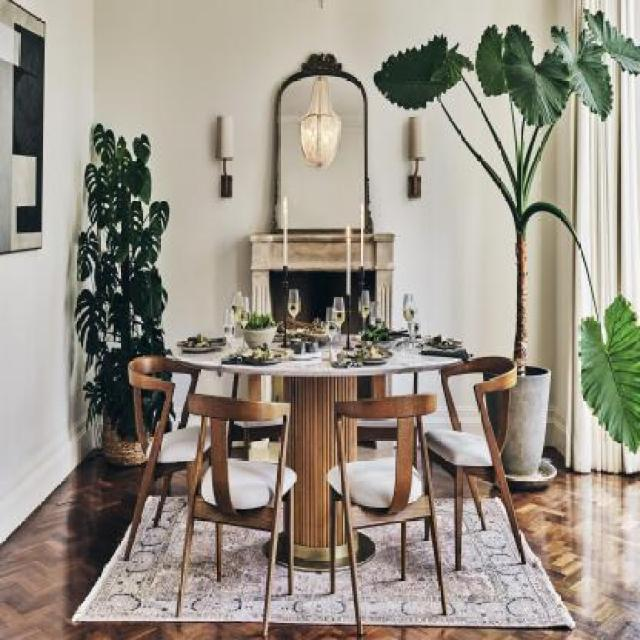floor: (270, 447, 640, 640), (0, 448, 274, 640), (250, 437, 279, 465), (357, 441, 397, 458)
